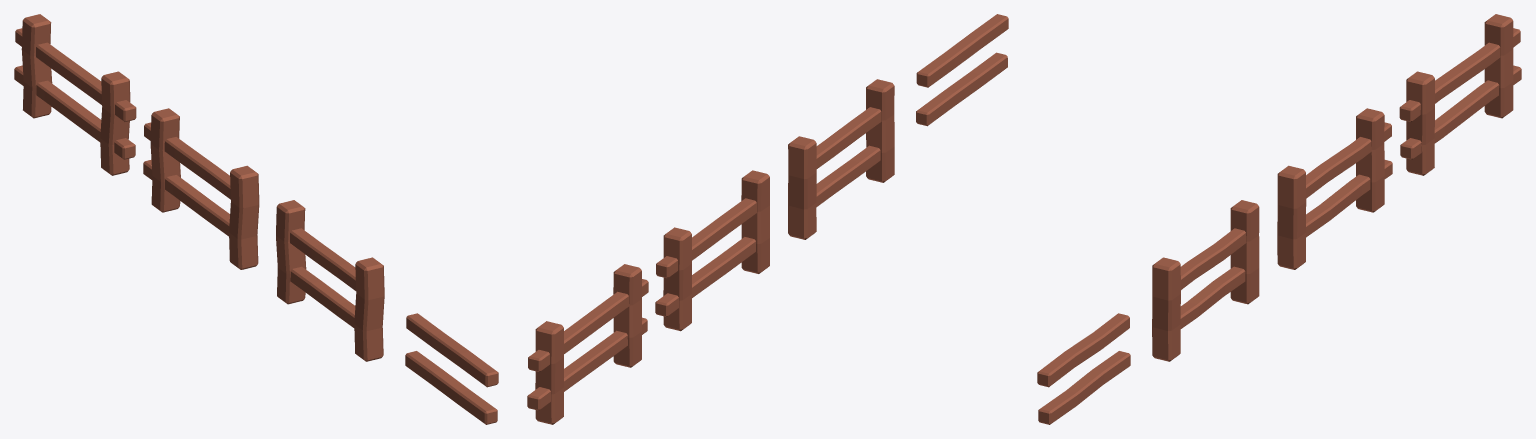
The model's file is fences.fbx.
The picture shows the model from 3 angles, left to right: view 1: azimuth 30°, elevation 25°; view 2: azimuth 150°, elevation 25°; view 3: azimuth 330°, elevation 25°; orthographic projection.
Parts seen in each view (by area): view 1: Beam.048, Beam.040, Beam.047, Beam.053; view 2: Beam.048, Beam.040, Beam.047, Beam.053; view 3: Beam.048, Beam.040, Beam.047, Beam.053.
Boxes of the visible parts, x1,y1,x2,y2 form: Beam.048: [14, 14, 136, 175]; Beam.040: [143, 108, 259, 269]; Beam.047: [276, 200, 384, 361]; Beam.053: [405, 313, 498, 424]; Beam.048: [527, 264, 648, 424]; Beam.040: [655, 170, 769, 331]; Beam.047: [788, 79, 894, 239]; Beam.053: [916, 14, 1008, 126]; Beam.048: [1399, 14, 1521, 175]; Beam.040: [1277, 108, 1392, 269]; Beam.047: [1152, 200, 1259, 361]; Beam.053: [1037, 313, 1130, 424].
Bounding box in the file's own units: 57.39 × 246 × 2229.
